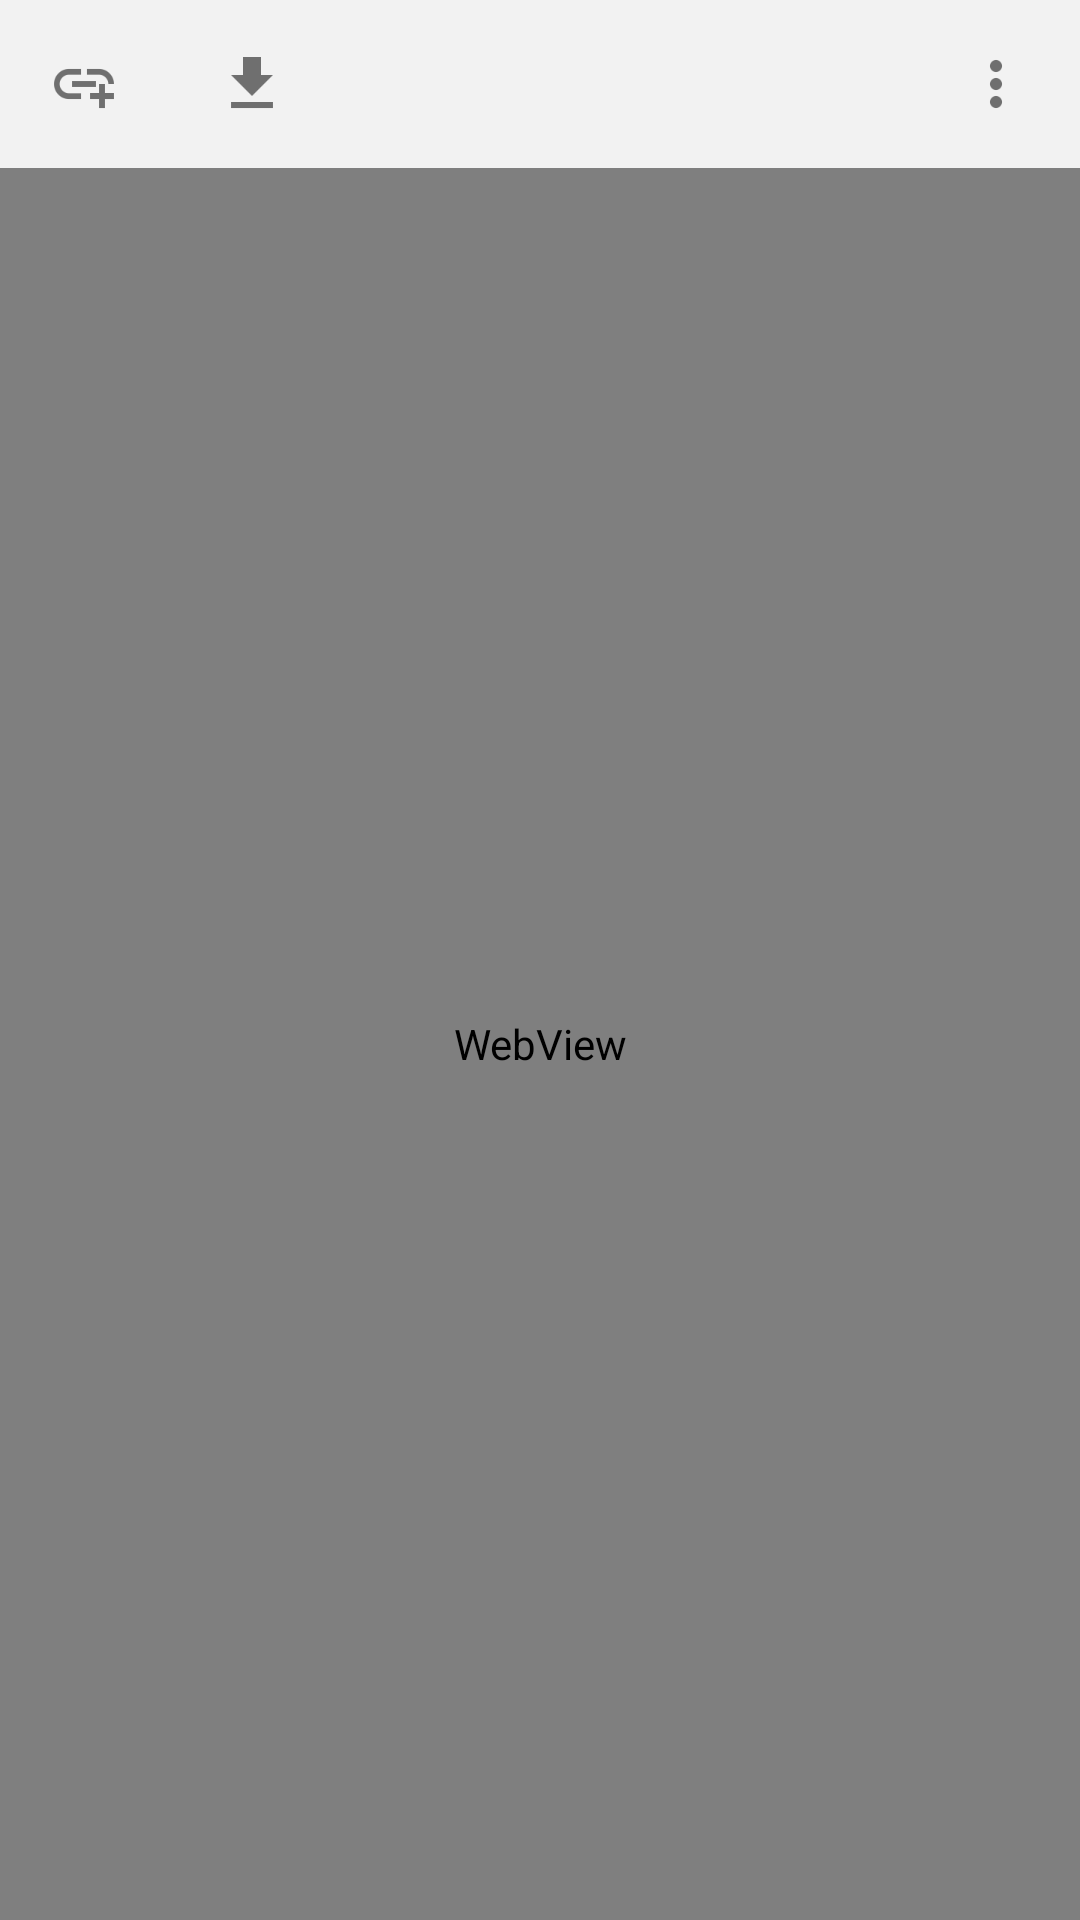

Screen size 1080x1920. Icon name, then its center in pixels as (x=x, y=y):
add link: (x=84, y=88)
file download: (x=252, y=82)
more vert: (x=996, y=84)
